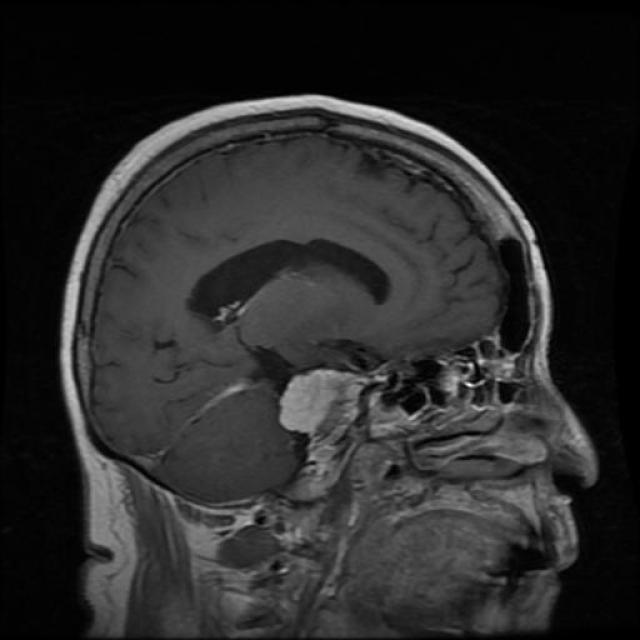meningioma: (280, 370, 340, 434)
